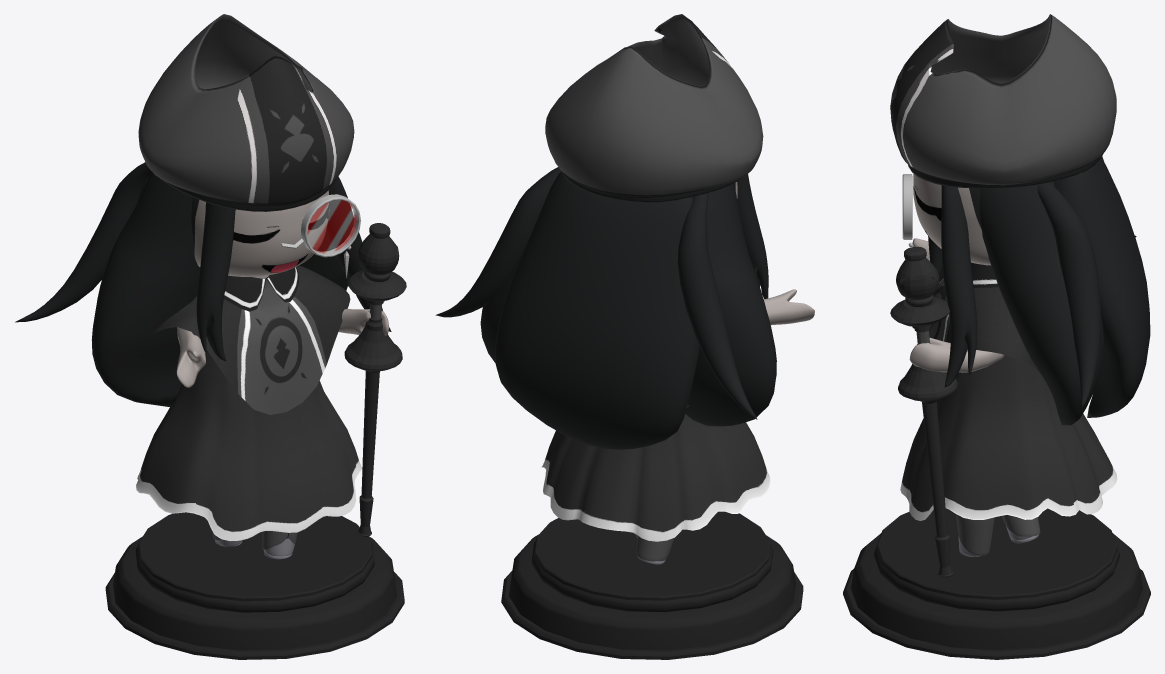
File: bisyoppu.fbx
3 views of the same model, side by side, from view 1: azimuth 30°, elevation 25°; view 2: azimuth 150°, elevation 25°; view 3: azimuth 270°, elevation 25° (orthographic). The views are drawn at different scales.
Parts seen in each view (by area): view 1: polySurface41; view 2: polySurface41; view 3: polySurface41.
Part boxes in pixels (x1,y1,x2,y2): polySurface41: (15,14,406,659); polySurface41: (435,14,814,659); polySurface41: (843,14,1150,659).
Size of the model in its own units: 80.52 by 125 by 60.49.
8 materials, 7 textured.
